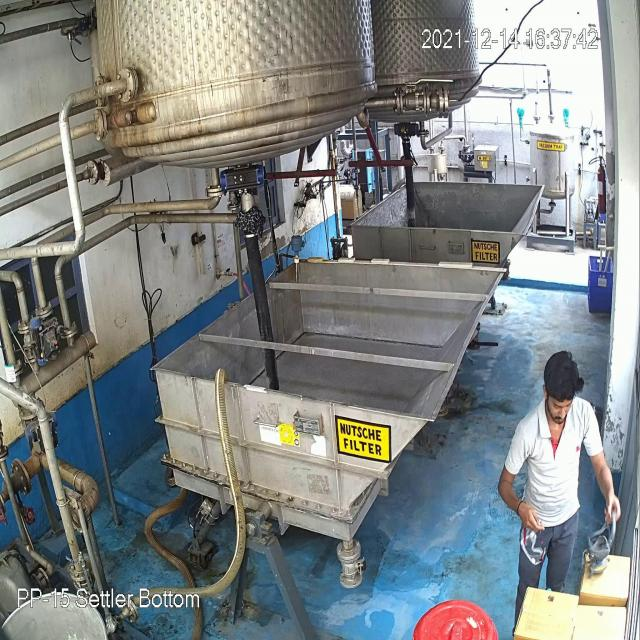No_Gloves: (33, 69, 606, 502)
